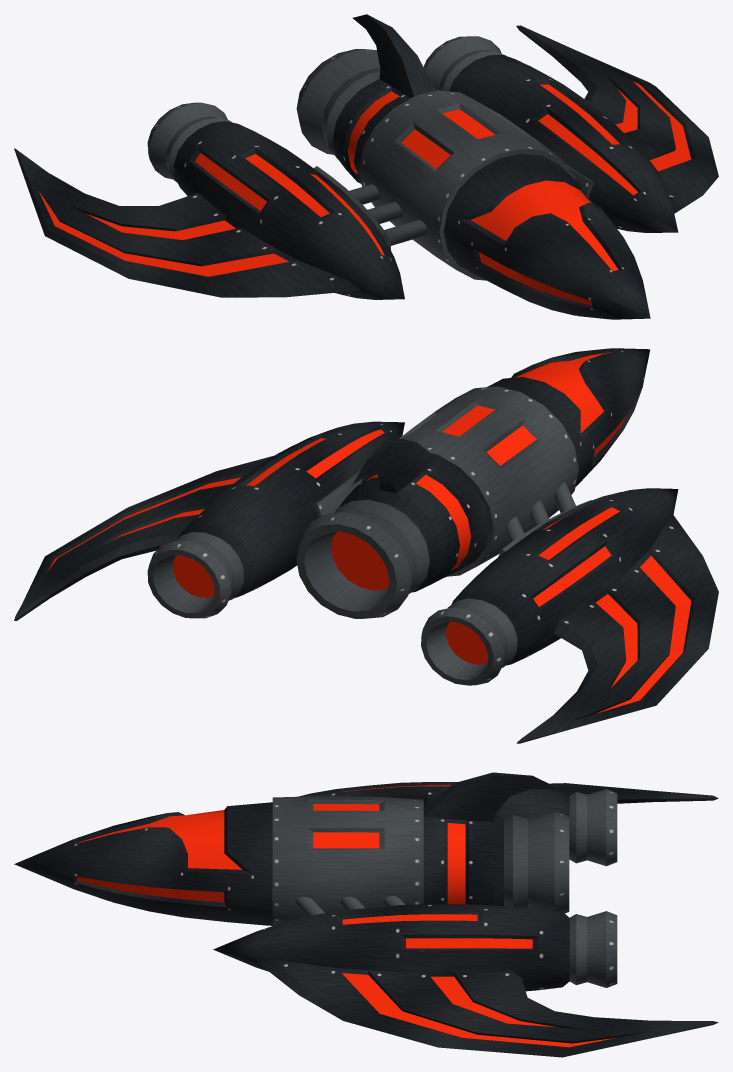
The model's file is Bloaty_100.fbx.
3 renders of one model, top to bottom at view 1: azimuth 30°, elevation 25°; view 2: azimuth 150°, elevation 25°; view 3: azimuth 270°, elevation 25°, orthographic. The views are drawn at different scales.
Visible parts, largest first — view 1: Boaty_3; view 2: Boaty_3; view 3: Boaty_3.
Boxes of the visible parts, x1,y1,x2,y2 form: Boaty_3: (14, 14, 718, 319); Boaty_3: (14, 348, 718, 743); Boaty_3: (14, 772, 718, 1057).
Bounding box in the file's own units: 43.12 × 11.41 × 47.08.
